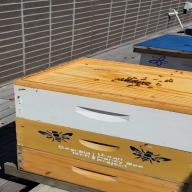Bee: (106, 70, 166, 91)
